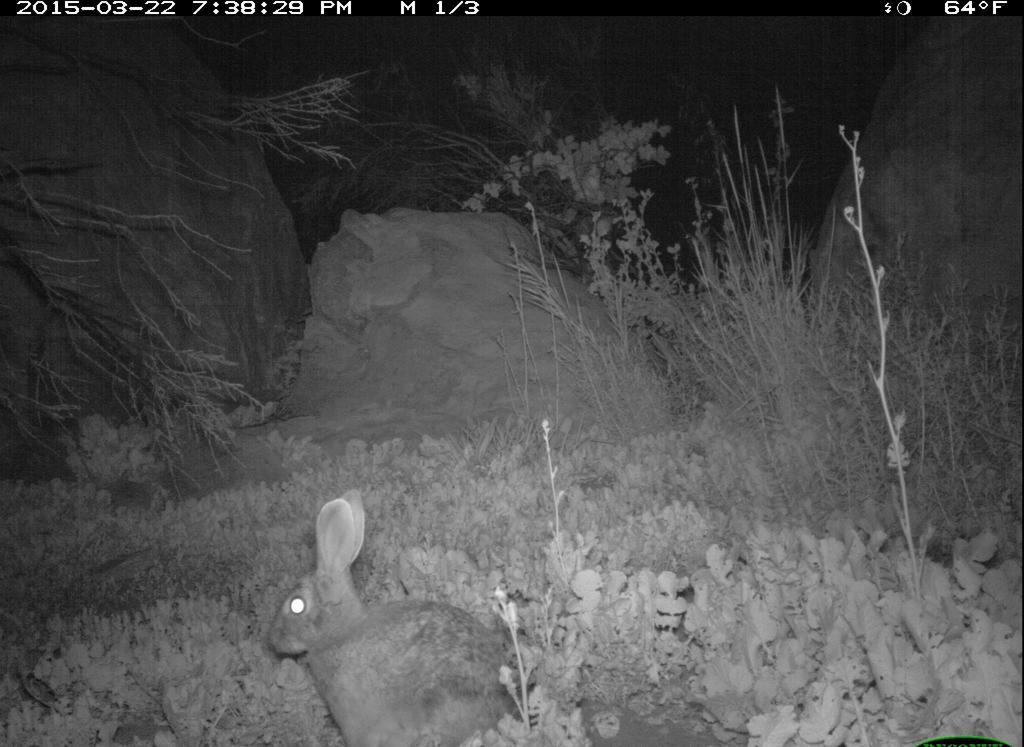rabbit: (253, 474, 532, 745)
